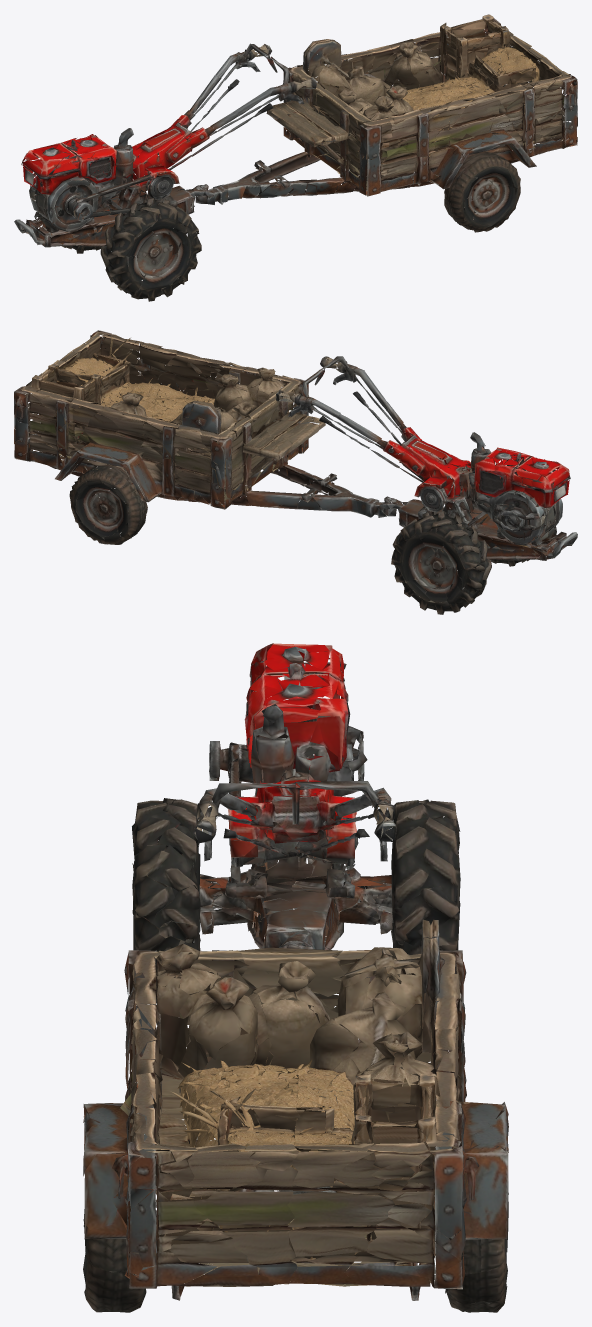
The model's file is PatPat.fbx.
The picture shows the model from 3 angles, top to bottom: view 1: azimuth 30°, elevation 25°; view 2: azimuth 150°, elevation 25°; view 3: azimuth 270°, elevation 25°; orthographic projection. The views are drawn at different scales.
Visible parts, largest first — view 1: PatPat.005; view 2: PatPat.005; view 3: PatPat.005.
Boxes of the visible parts, x1,y1,x2,y2 form: PatPat.005: [14, 14, 577, 301]; PatPat.005: [14, 330, 577, 614]; PatPat.005: [83, 643, 508, 1312].
Bounding box in the file's own units: 3.33 × 1.12 × 1.19.
1 material, 1 textured.
